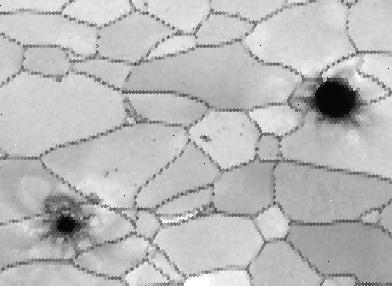good_void: (289, 73, 369, 136), (41, 184, 107, 259), (198, 133, 213, 144), (0, 148, 10, 163), (217, 126, 227, 134), (142, 0, 150, 10), (103, 170, 110, 179), (151, 137, 157, 144), (238, 132, 245, 138), (114, 168, 119, 174), (241, 122, 245, 129)
